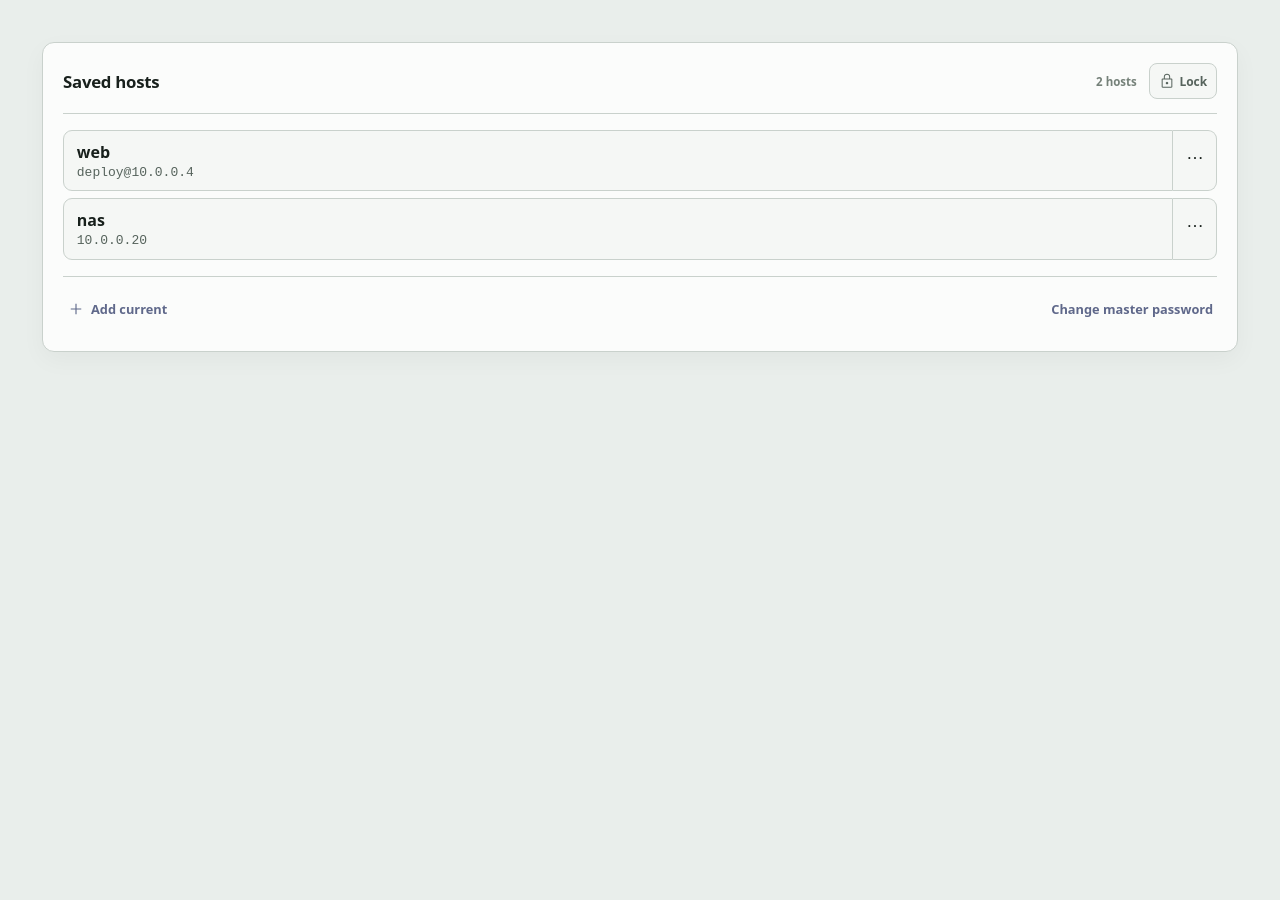
Test: SavedHosts › contains focus in the delete dialog and restores it on Escape
Click the button named "options for web". click: point(1195, 160)
box: [1173,130,1217,191]
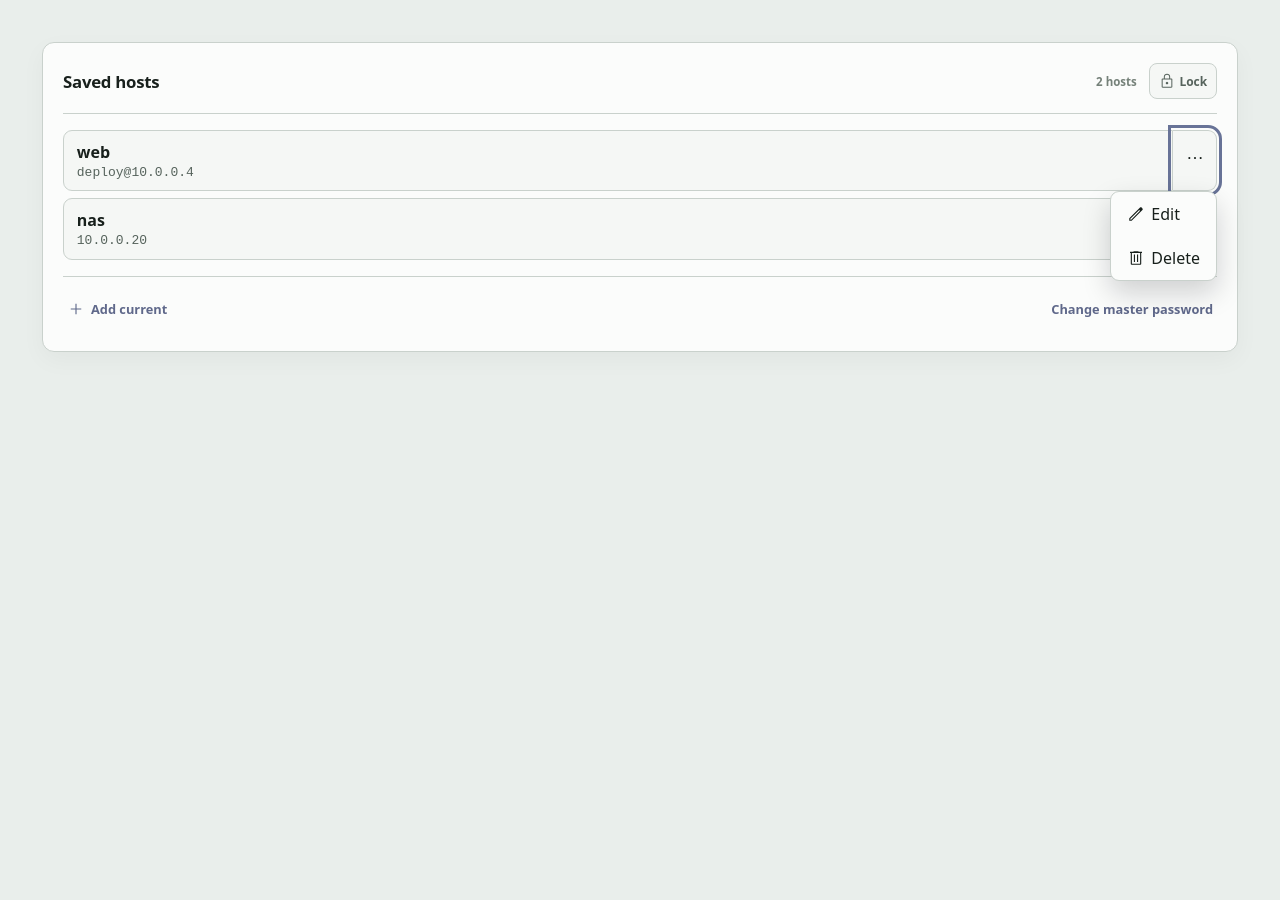
Click the button "Delete". click: point(1164, 258)
box: [1111,236,1216,280]
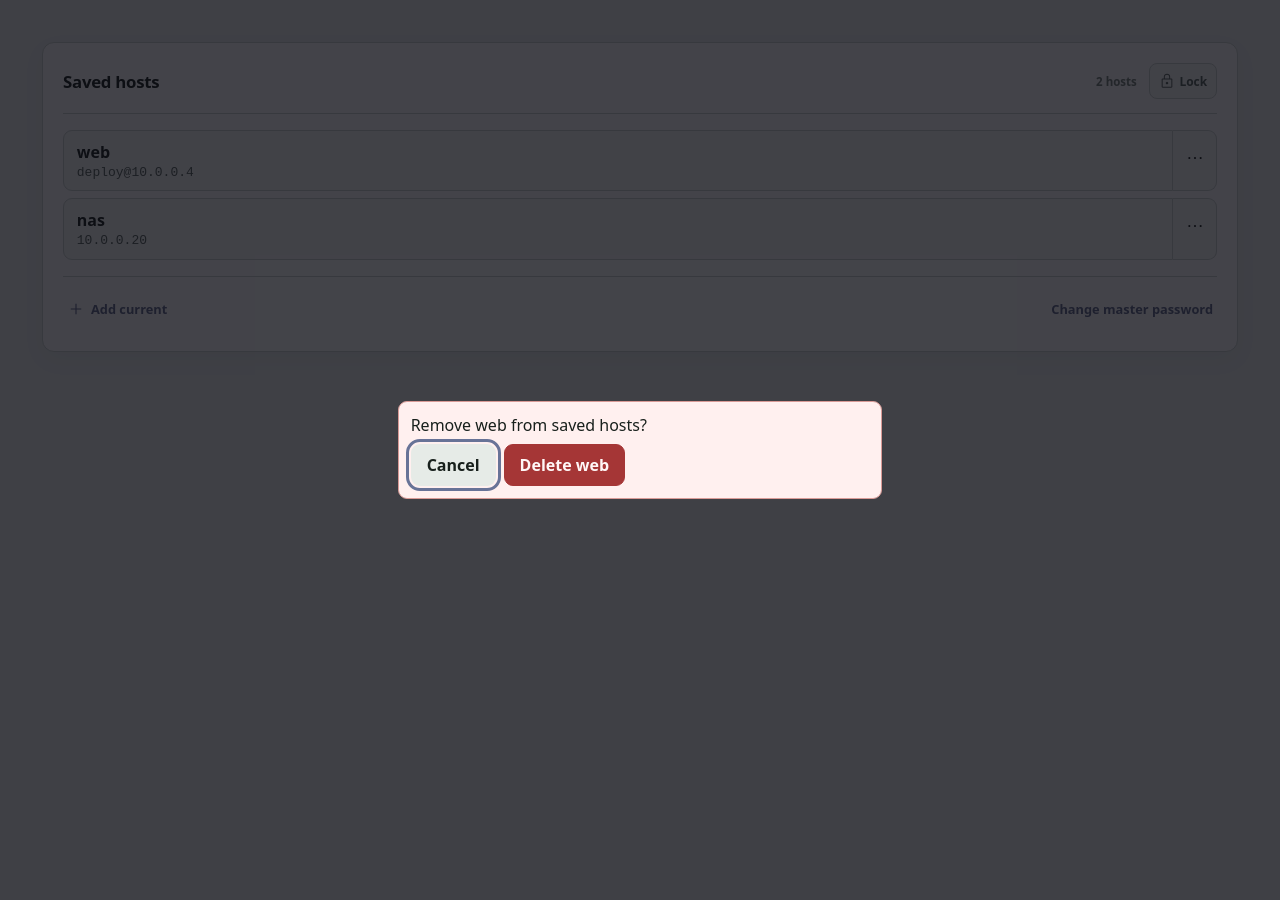
Press Shift+Tab
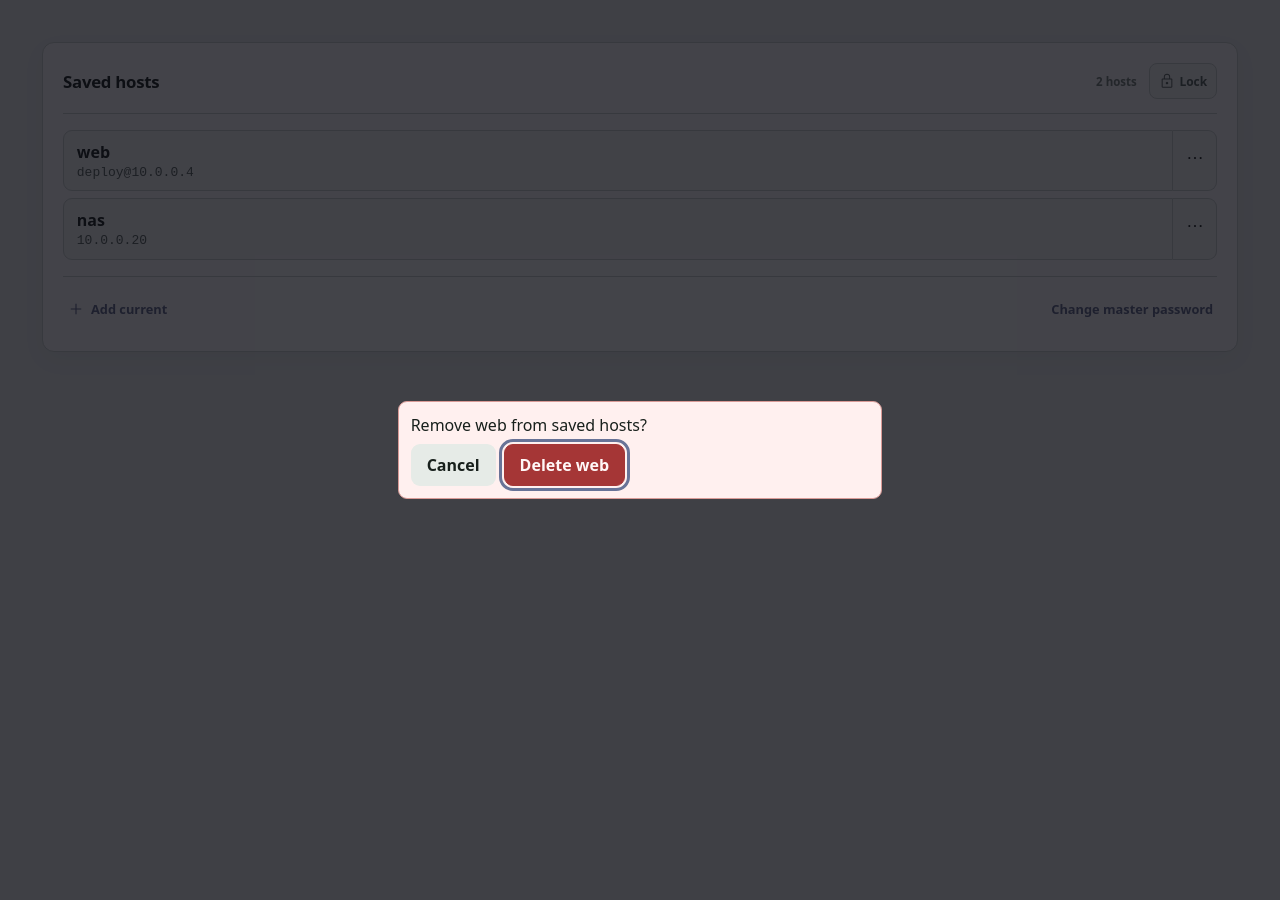
Press Escape
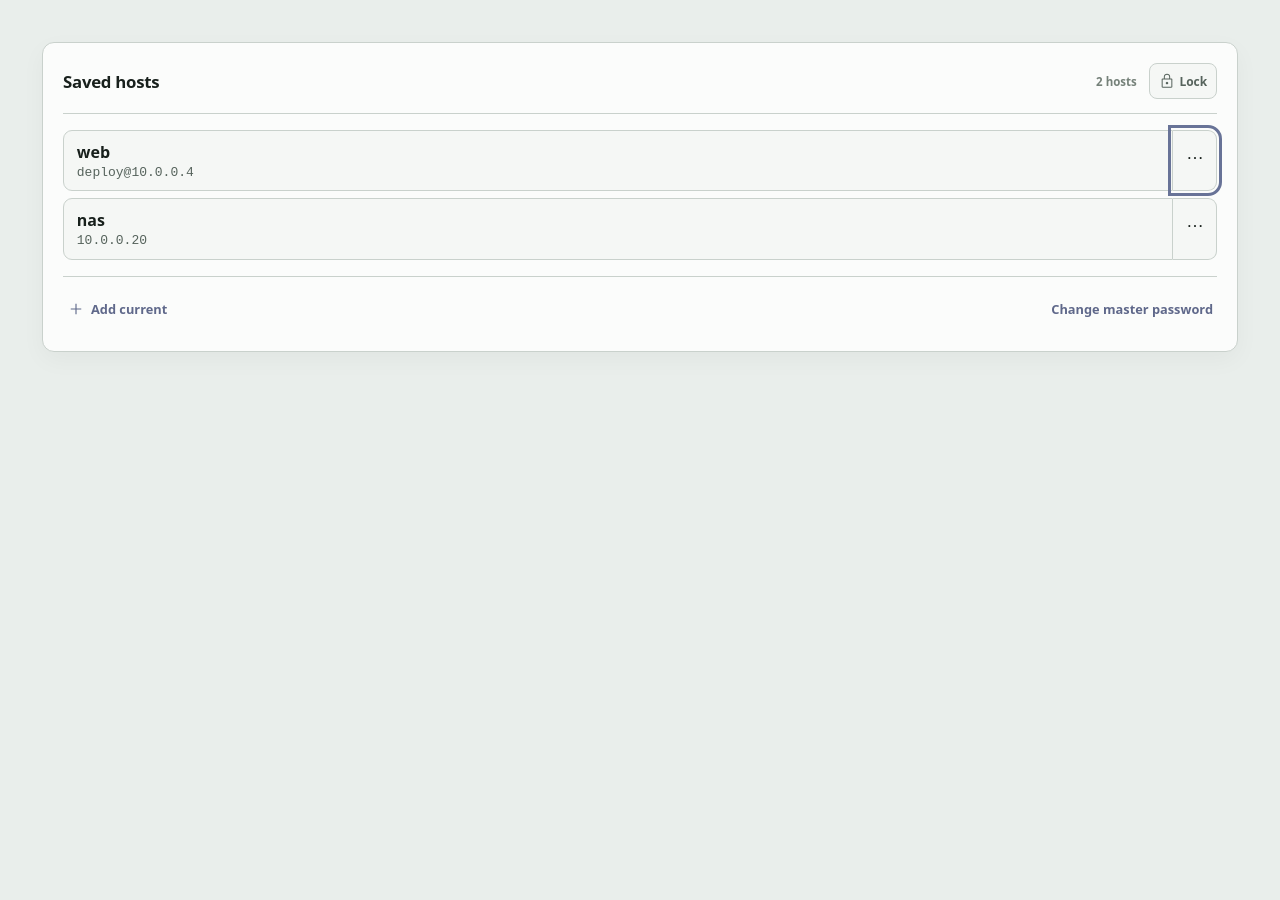
Check: the dialog is gone
